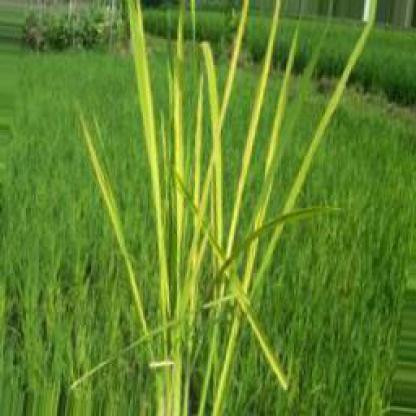Tungro: (254, 27, 362, 263), (210, 13, 276, 309), (78, 108, 151, 354), (122, 3, 167, 330), (162, 9, 190, 372), (252, 46, 289, 296), (198, 38, 228, 336), (172, 329, 227, 406), (218, 2, 250, 113)
